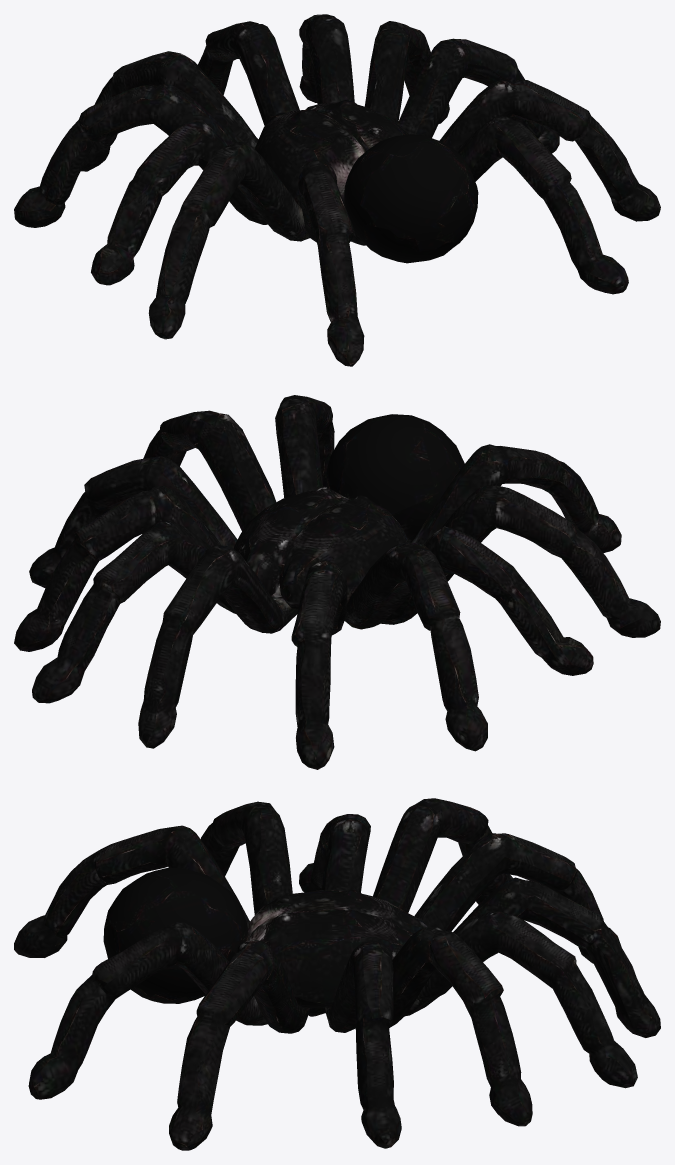
Rendered from a-black-spider-with-eight-legs-3c61b1.glb.
3 views of the same model, one above another, from view 1: azimuth 30°, elevation 25°; view 2: azimuth 150°, elevation 25°; view 3: azimuth 270°, elevation 25° (orthographic). The views are drawn at different scales.
Visible parts, largest first — view 1: geometry_0; view 2: geometry_0; view 3: geometry_0.
Boxes of the visible parts, x1=… form: geometry_0: x1=14, y1=14, x2=660, y2=366; geometry_0: x1=14, y1=395, x2=660, y2=769; geometry_0: x1=14, y1=798, x2=660, y2=1150.
Bounding box in the file's own units: 0.9578 × 0.2696 × 1.
Materials: 1 (1 with a texture image).
